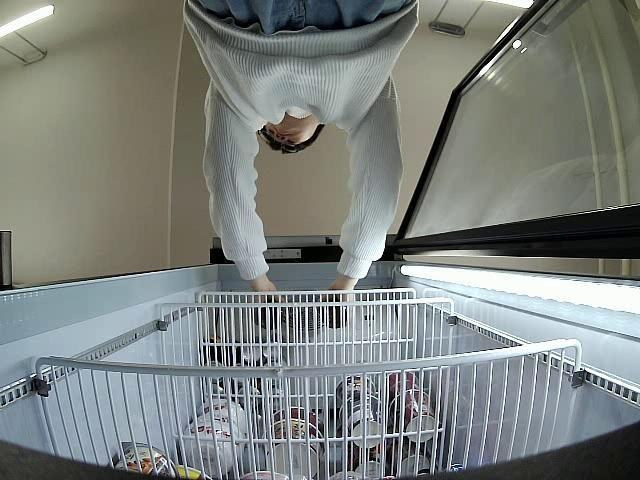19_17cha: (254, 298, 284, 329), (322, 300, 348, 329)
